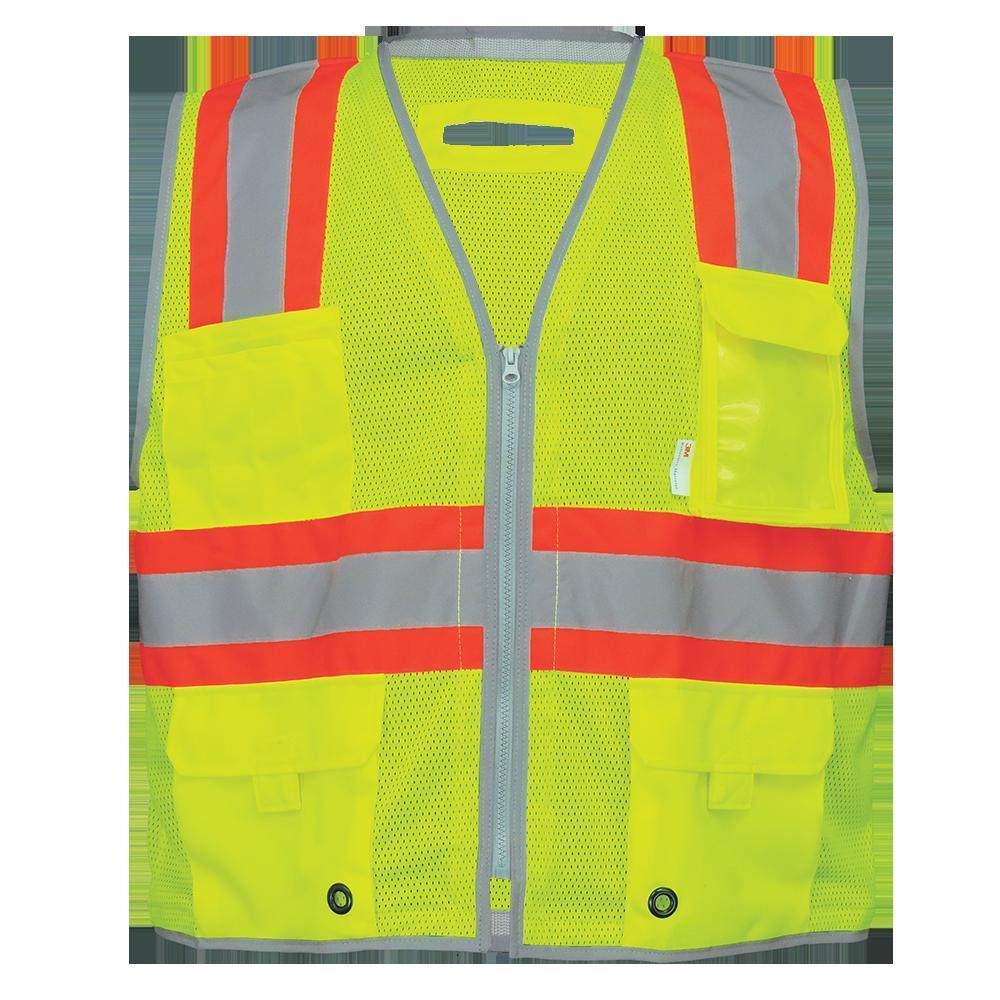vest: (129, 37, 892, 956)
